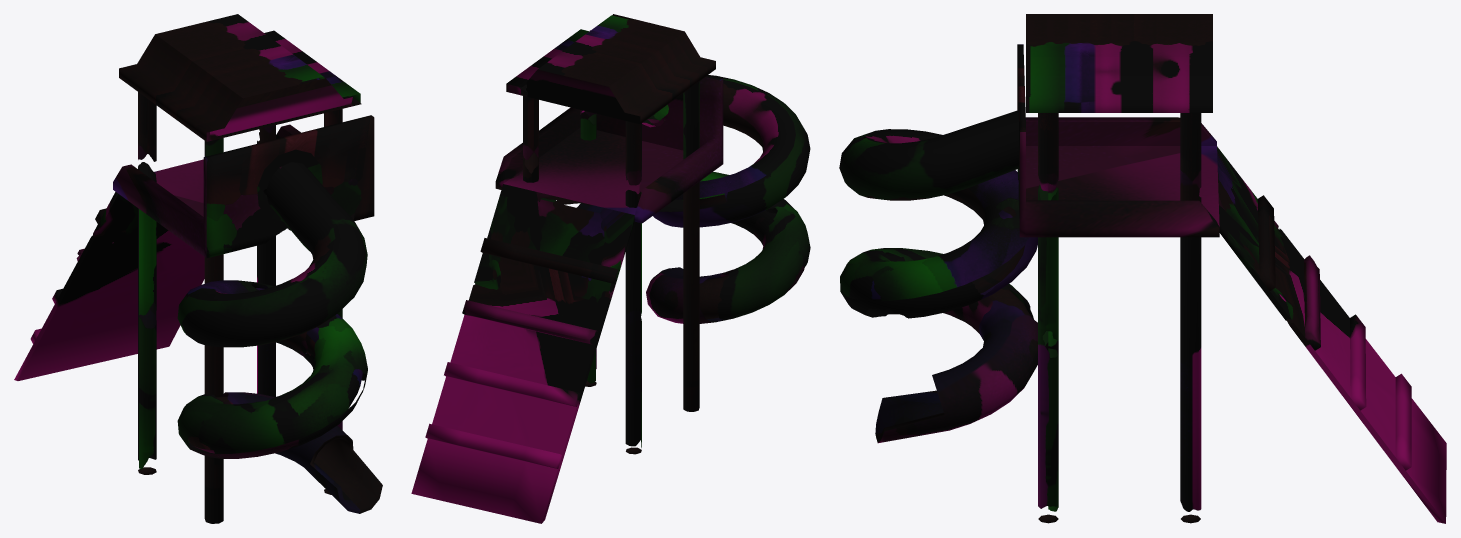
The model's file is tobogan.fbx.
3 renders of one model, left to right at view 1: azimuth 30°, elevation 25°; view 2: azimuth 150°, elevation 25°; view 3: azimuth 270°, elevation 25°, orthographic. The views are drawn at different scales.
Parts seen in each view (by area): view 1: toboganbake; view 2: toboganbake; view 3: toboganbake.
Boxes of the visible parts, left/top/right/bottom form: toboganbake: left=14, top=14, right=382, bottom=523; toboganbake: left=411, top=14, right=810, bottom=523; toboganbake: left=839, top=14, right=1446, bottom=523.
Size of the model in its own units: 1221 by 2239 by 2724.
